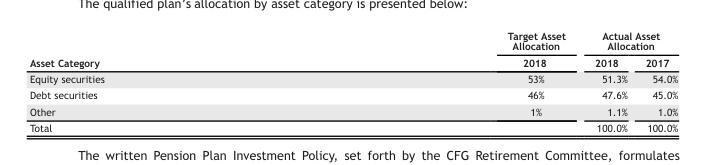table: (28, 29, 677, 133)
table column: (28, 29, 305, 133), (305, 29, 579, 133), (579, 29, 635, 133), (635, 29, 677, 133)
table column header: (28, 29, 677, 70)
table row: (28, 29, 677, 53), (28, 53, 677, 70), (28, 102, 677, 119), (28, 70, 677, 86), (28, 86, 677, 102), (28, 119, 677, 133)
table spanning cell: (28, 29, 305, 70), (305, 29, 579, 70), (579, 29, 677, 53)
